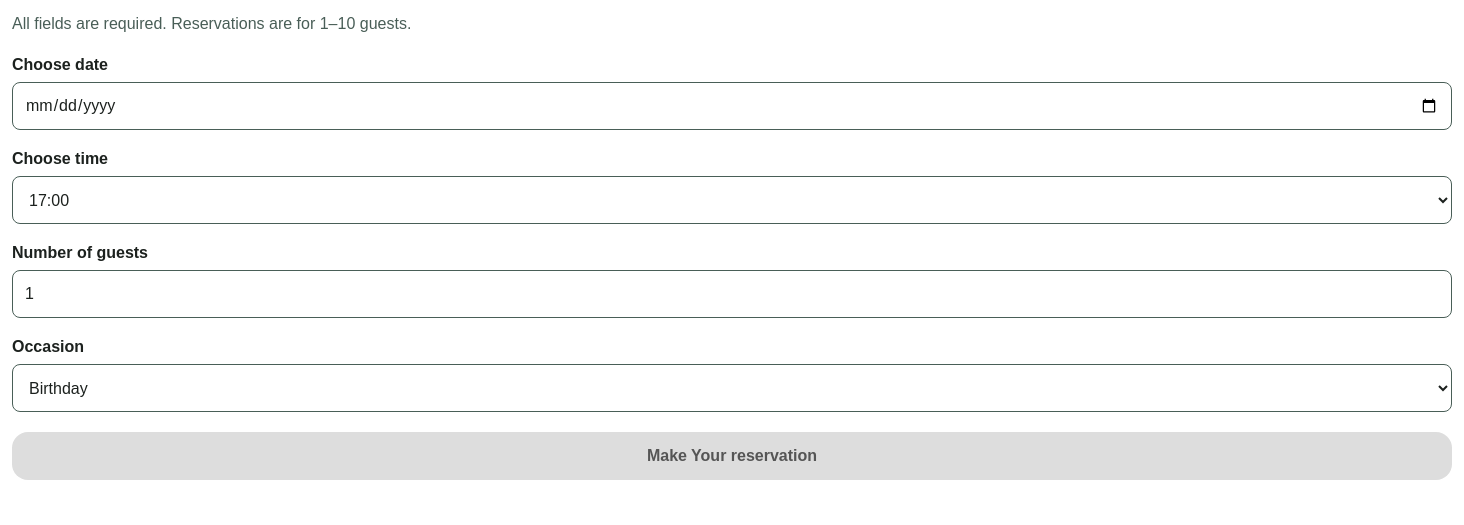
Scenario: rejects an empty occasion and clears its error after correction
Step 1. Type "2026-12-12" into the date field labelled "Choose date" → (732, 106), box [12, 82, 1452, 130]
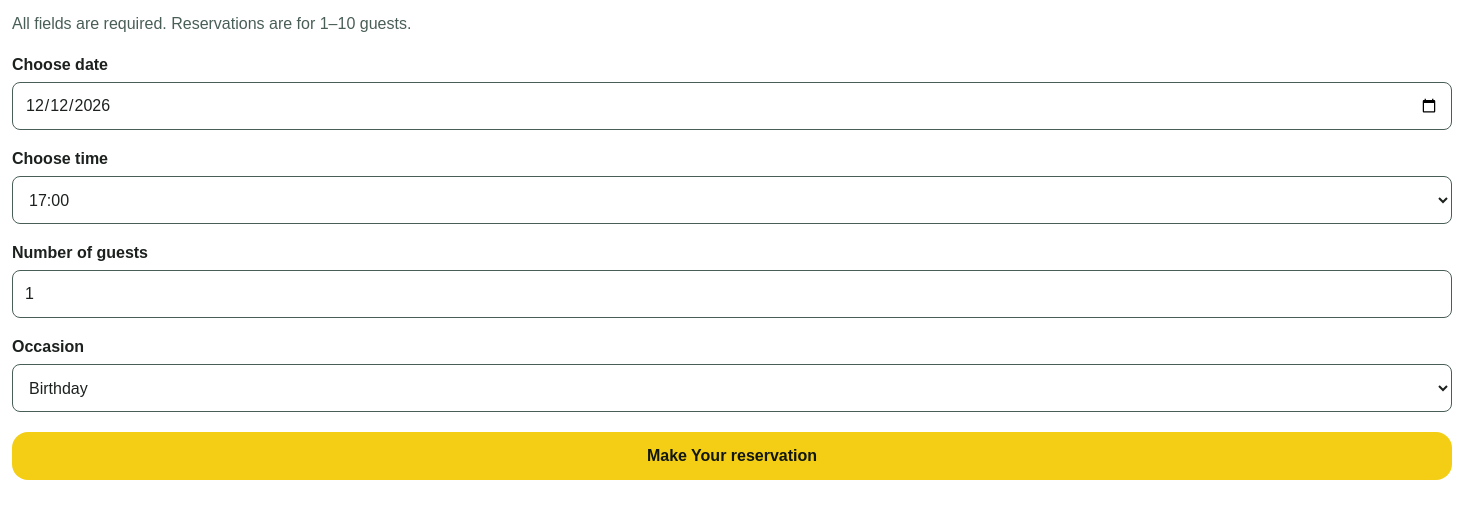
Step 2. Select "" in the dropdown labelled "Occasion" → (732, 388), box [12, 364, 1452, 412]
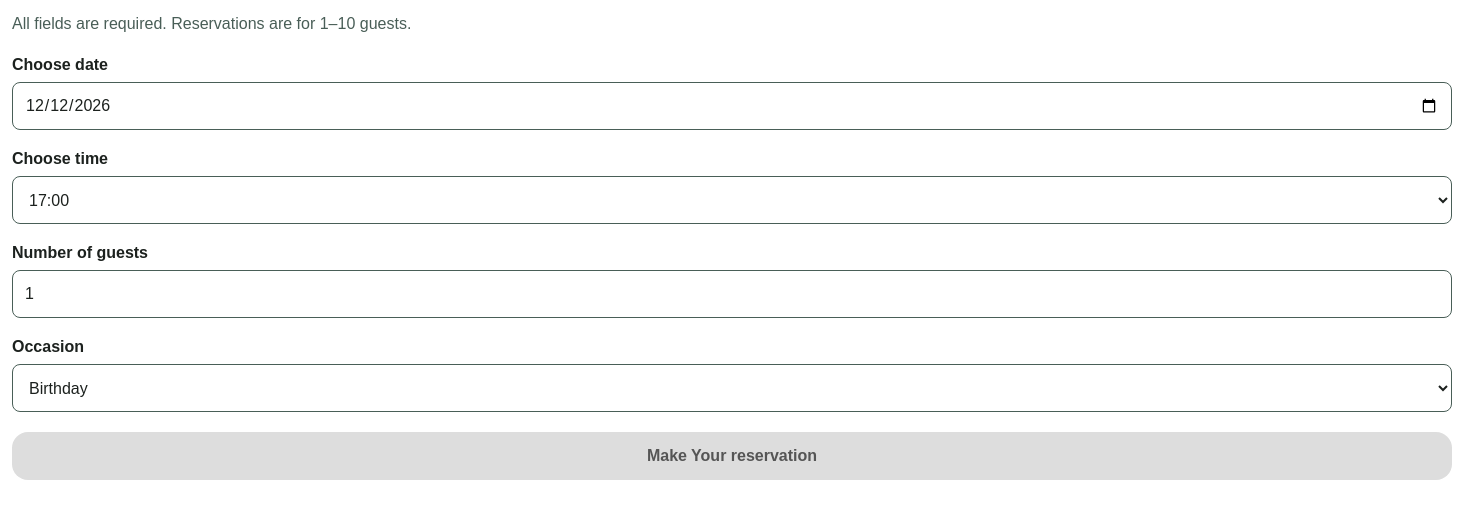
Step 3. Leave the dropdown labelled "Occasion", box [12, 364, 1452, 412]
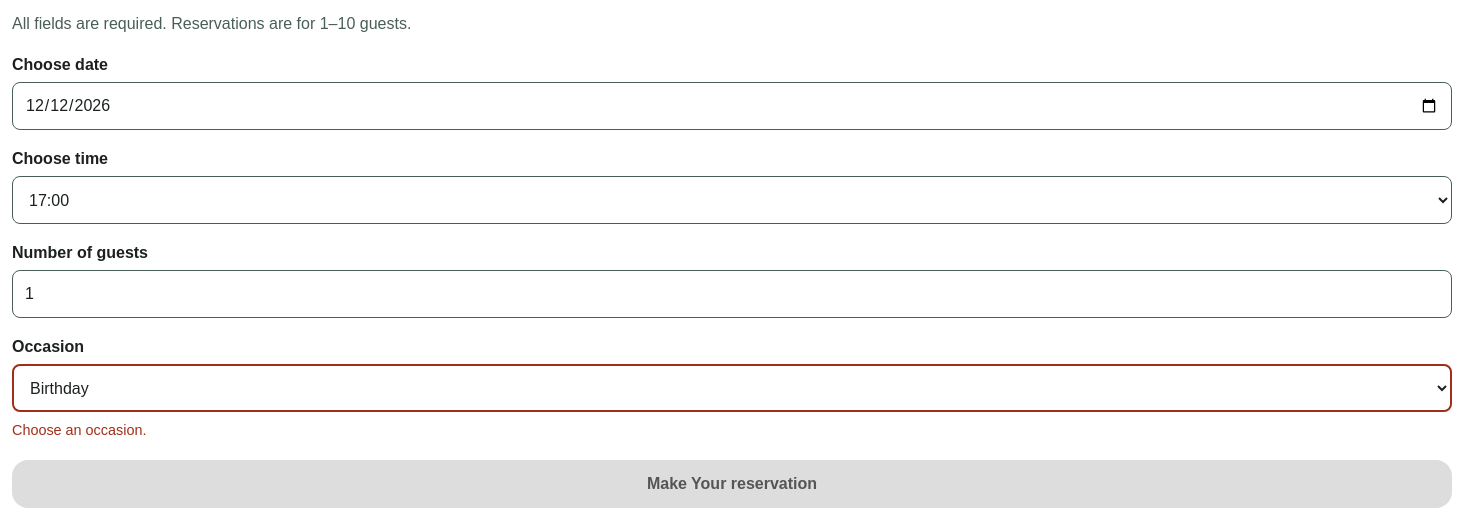
Expected: the button "Make Your reservation" is disabled, [12, 460, 1452, 508]
Step 4. Submit the form named "Occasion"
Step 5. Select "Birthday" in the dropdown labelled "Occasion" → (732, 388), box [12, 364, 1452, 412]
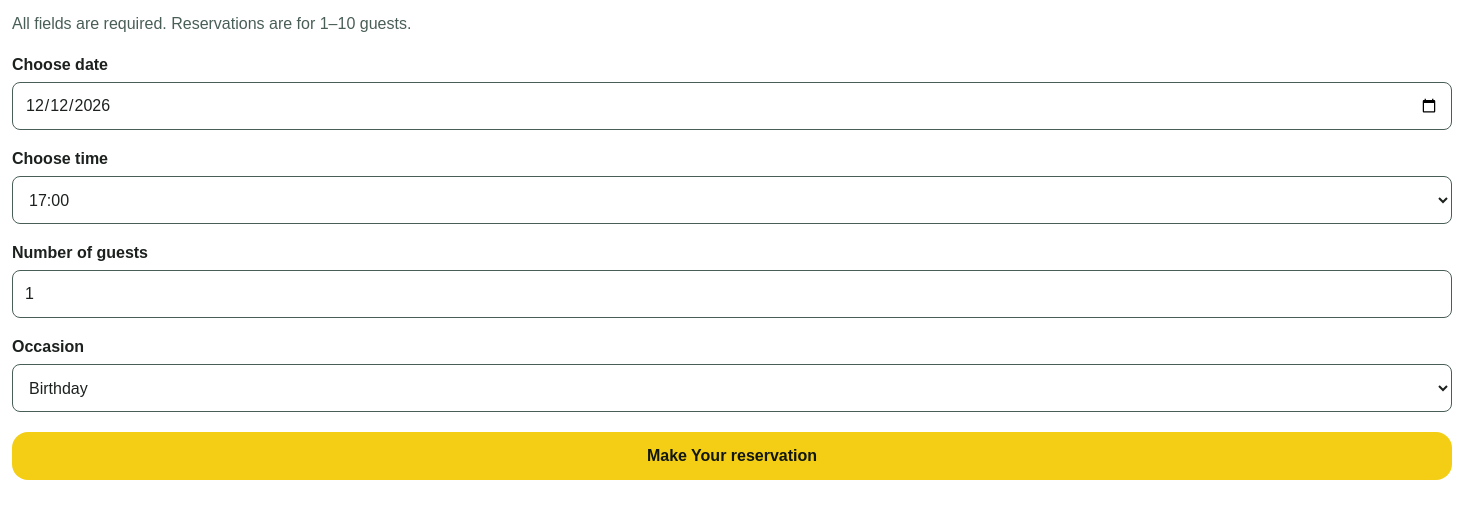
Expected: the text "Choose an occasion." is gone
Expected: the button "Make Your reservation" is enabled, [12, 432, 1452, 480]
